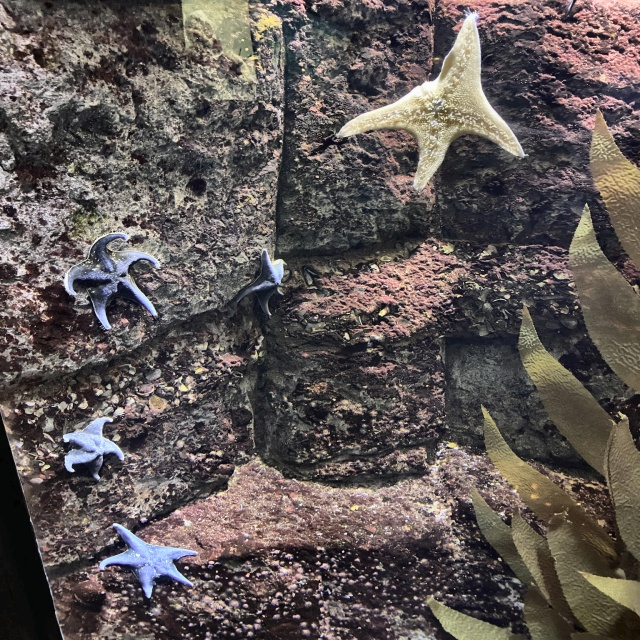starfish: (340, 12, 526, 190), (63, 232, 158, 329), (100, 524, 197, 598), (63, 417, 122, 479), (232, 250, 283, 316)
